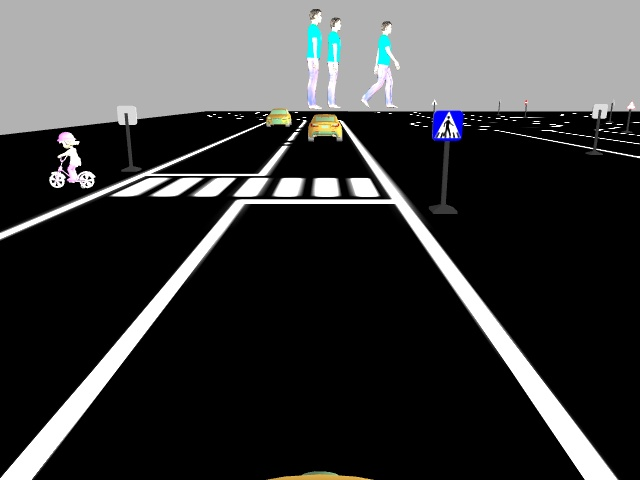Crosswalk: (432, 109, 464, 142)
Pedestrian: (44, 130, 95, 189)
